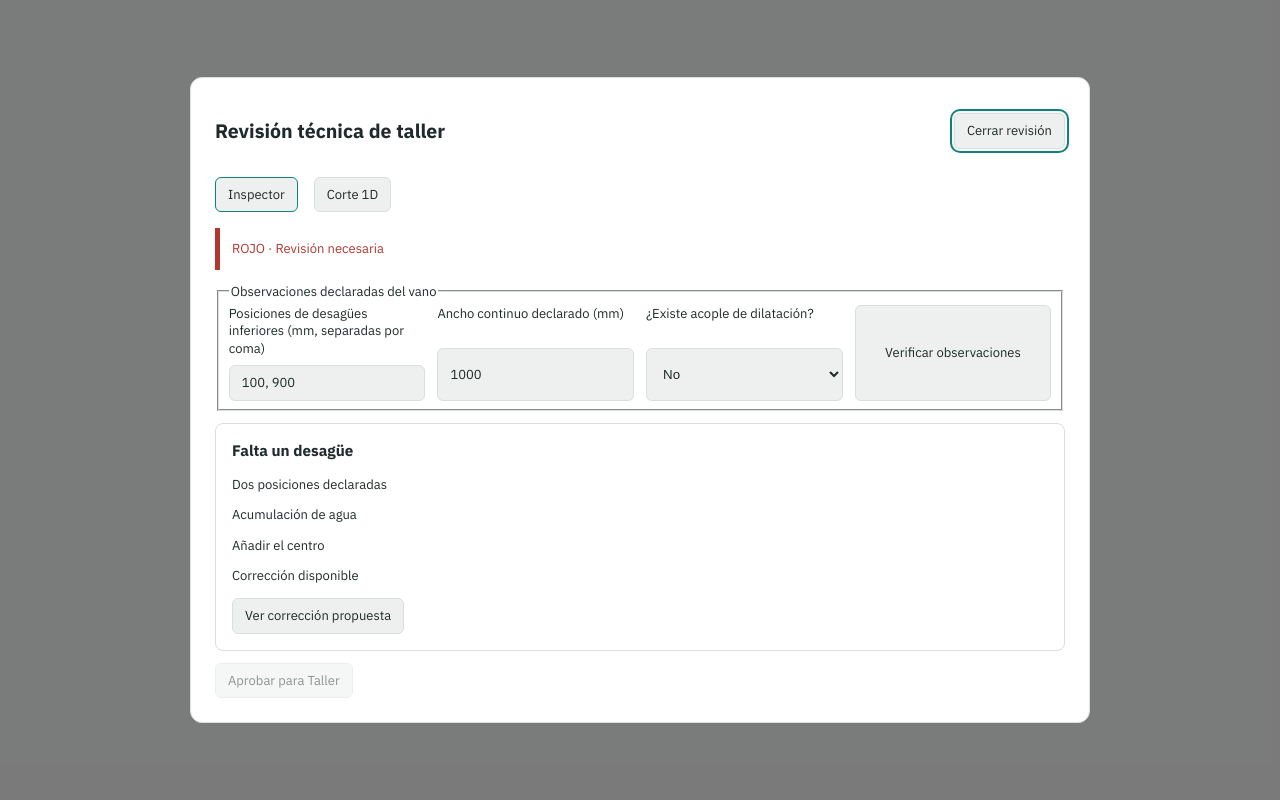
Test: SHOT-07 transactional modal › recomputes RED to YELLOW from the new response
The width and height of the screenshot is (1280, 800).
Click the button "Ver corrección propuesta". click: point(318, 616)
box: [232,598,404,634]
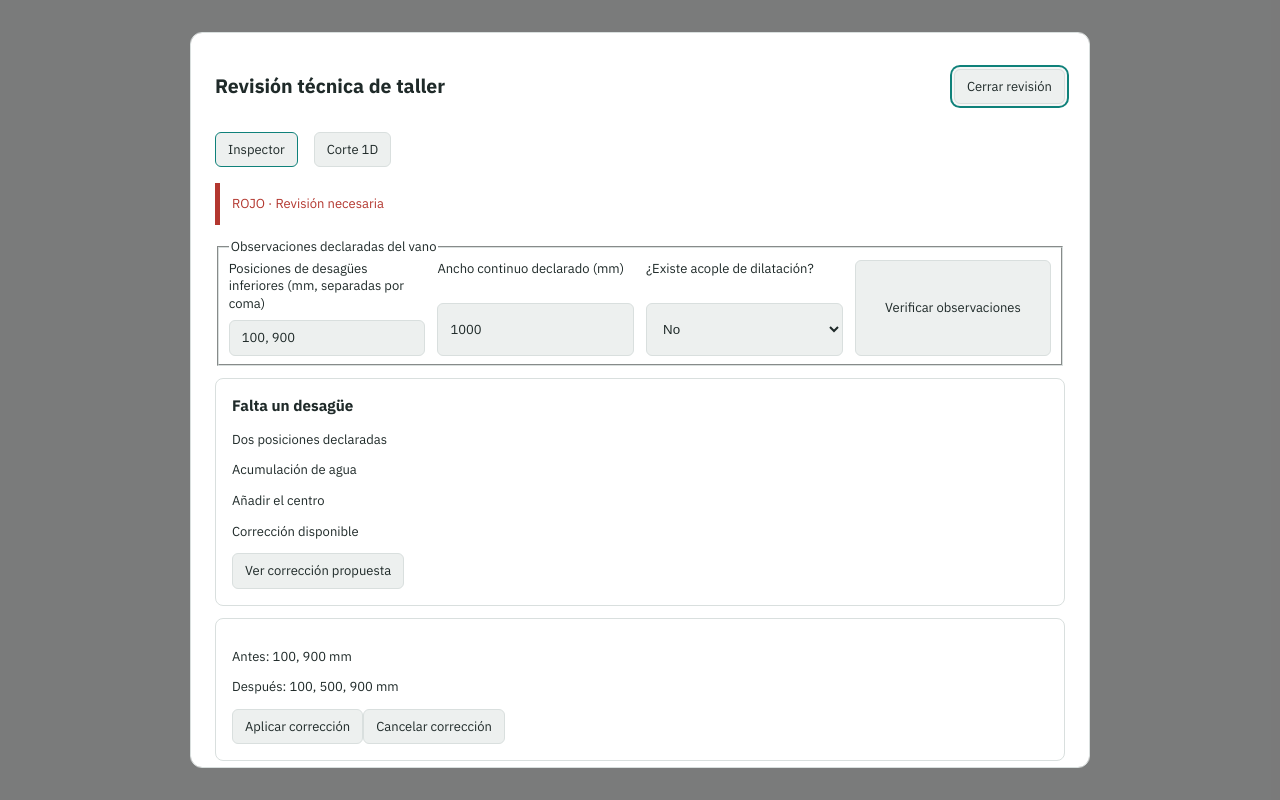
Check: the text "Antes: 100, 900 mm" is shown, box [232,648,352,665]
Check: the text "Después: 100, 500, 900 mm" is shown, box [232,678,399,695]
Click the button "Aplicar corrección". click: point(298, 726)
box: [232,709,363,744]
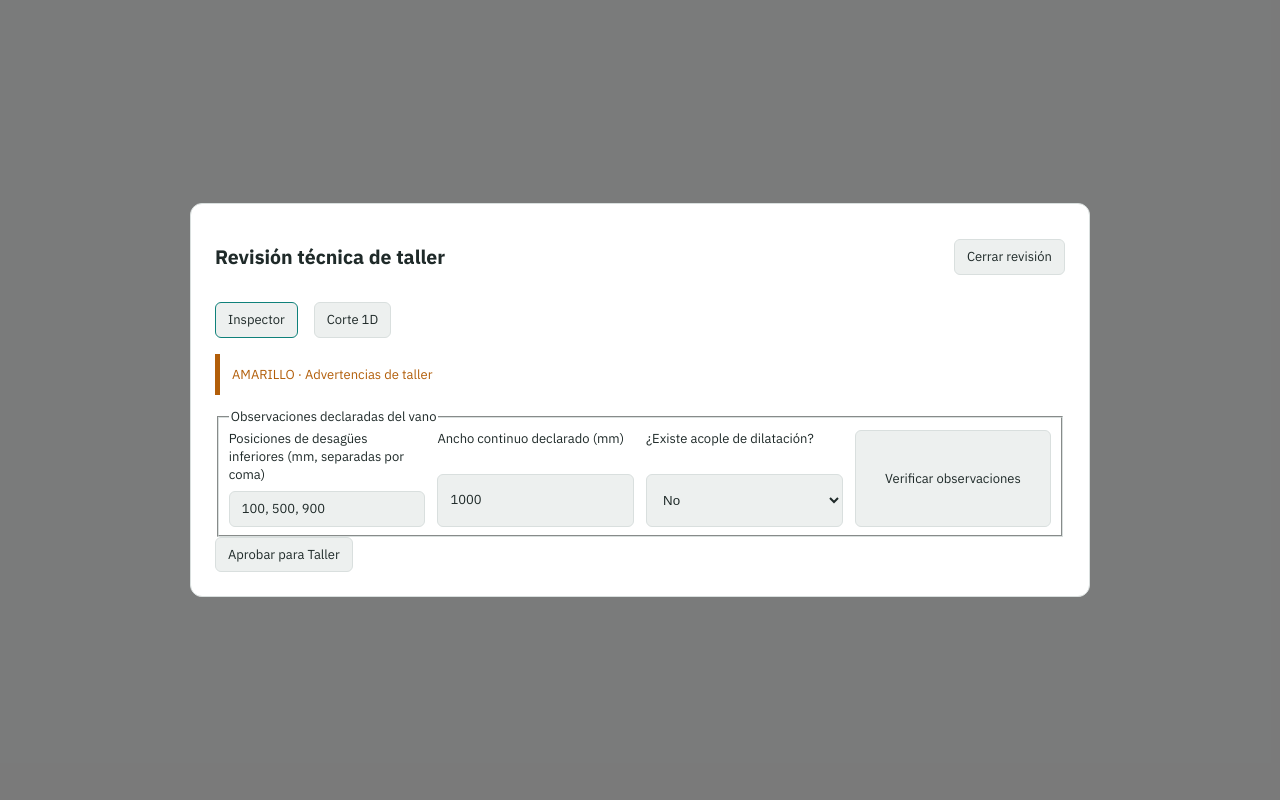
Check: the button "Aprobar para Taller" is enabled, box [215,537,353,572]
